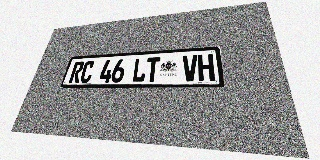4: (98, 59, 115, 83)
6: (110, 59, 126, 83)
C: (79, 61, 95, 83)
H: (198, 54, 215, 81)
L: (131, 58, 147, 82)
R: (68, 61, 85, 83)
T: (145, 57, 160, 82)
V: (182, 55, 198, 81)
